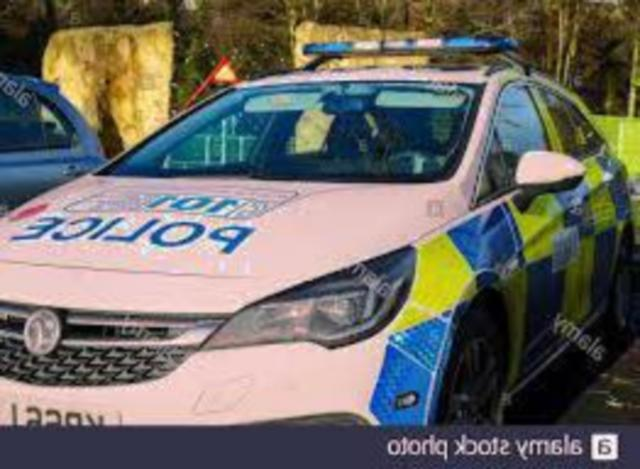police: (2, 34, 635, 425)
